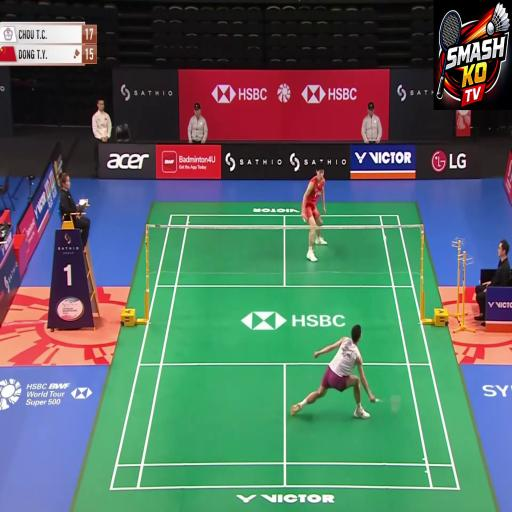player: (280, 106, 338, 264), (328, 298, 370, 442)
